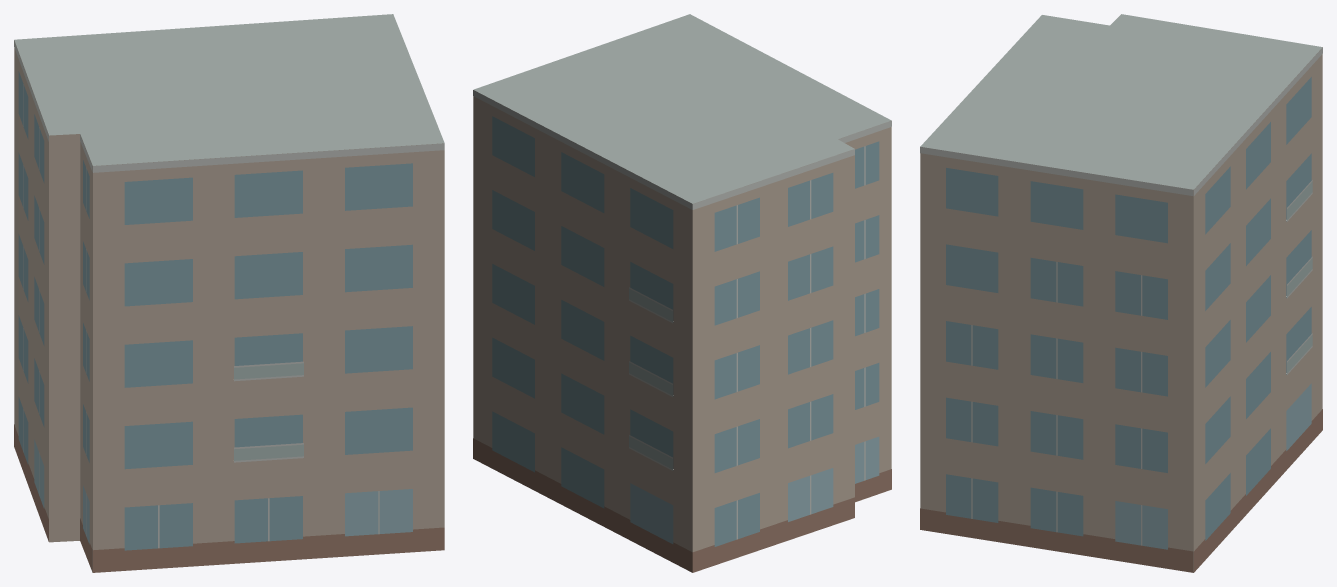
Rendered from survey-upis-32878849.glb.
The picture shows the model from 3 angles, left to right: view 1: azimuth 30°, elevation 25°; view 2: azimuth 150°, elevation 25°; view 3: azimuth 270°, elevation 25°; orthographic projection. The views are drawn at different scales.
Parts seen in each view (by area): view 1: survey-upis-32878849.tmp; view 2: survey-upis-32878849.tmp; view 3: survey-upis-32878849.tmp.
Boxes of the visible parts, x1,y1,x2,y2 form: survey-upis-32878849.tmp: (14, 14, 444, 572); survey-upis-32878849.tmp: (473, 14, 891, 572); survey-upis-32878849.tmp: (920, 14, 1322, 572).
Bounding box in the file's own units: 14.18 × 14.4 × 13.73.
